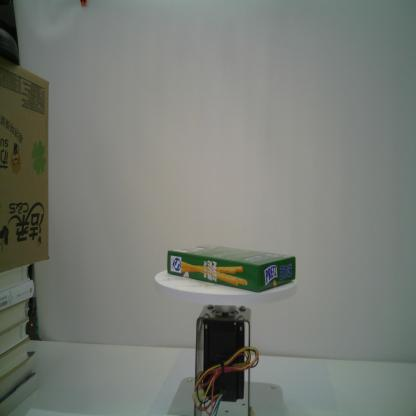Dessert: (167, 244, 296, 293)
